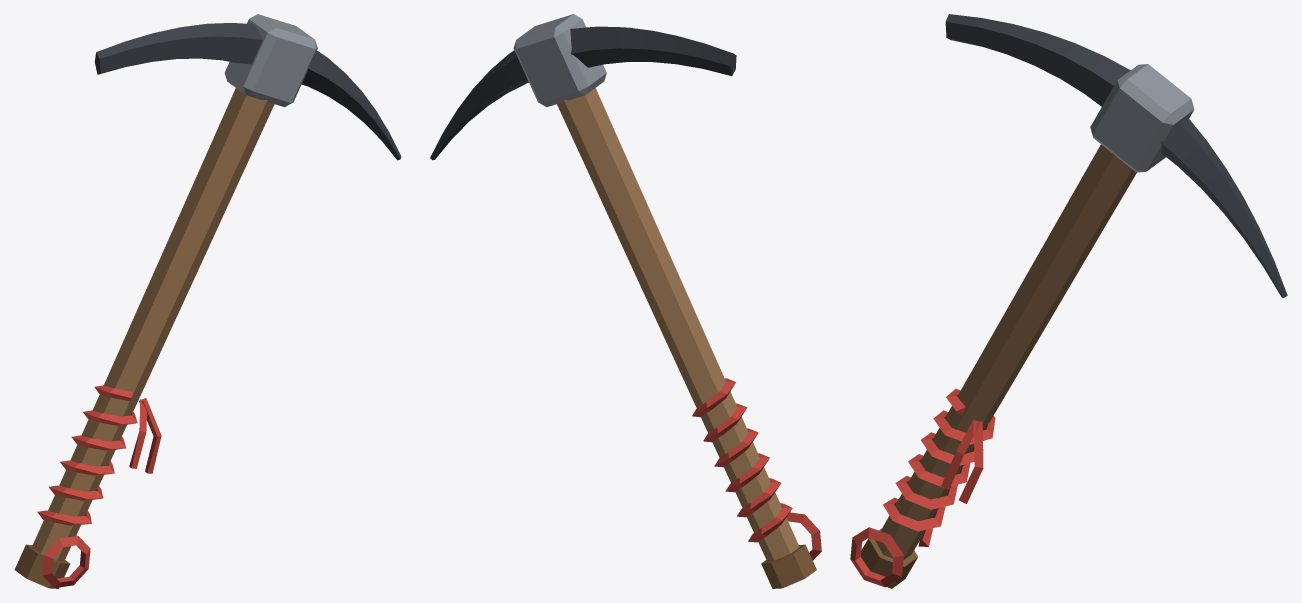
Rendered from lucky_pick.glb.
The picture shows the model from 3 angles, left to right: view 1: azimuth 30°, elevation 25°; view 2: azimuth 150°, elevation 25°; view 3: azimuth 330°, elevation 25°; orthographic projection. The views are drawn at different scales.
Visible parts, largest first — view 1: lucky_pick; view 2: lucky_pick; view 3: lucky_pick.
Boxes of the visible parts, x1=… form: lucky_pick: x1=14, y1=14, x2=401, y2=588; lucky_pick: x1=430, y1=14, x2=821, y2=588; lucky_pick: x1=850, y1=14, x2=1287, y2=588.
Bounding box in the file's own units: 0.4684 × 0.6181 × 0.0728.
